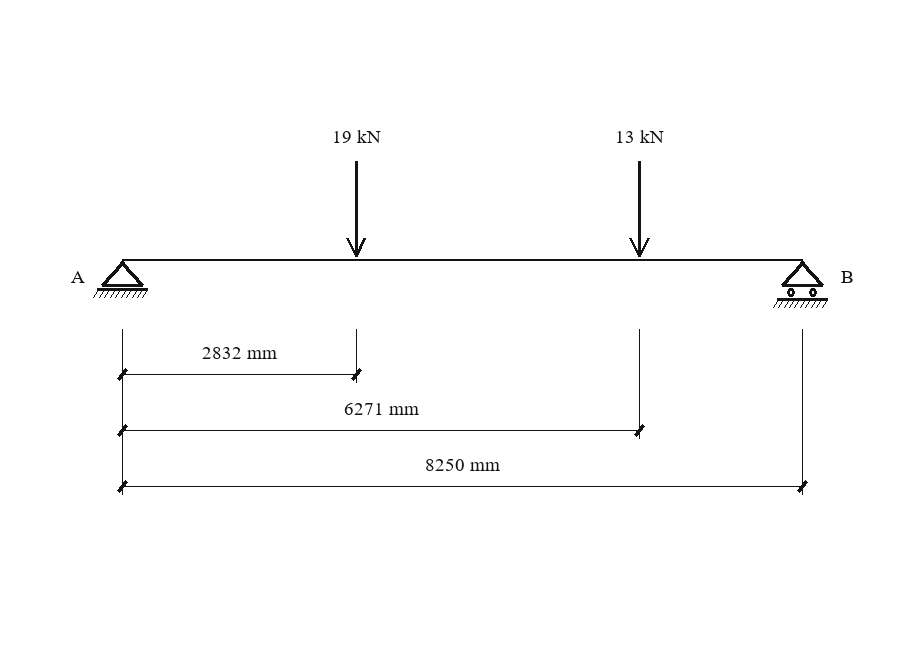pin_support: (93, 261, 148, 298)
point_load: (629, 161, 650, 257), (346, 161, 366, 257)
roller_support: (773, 261, 828, 308)
